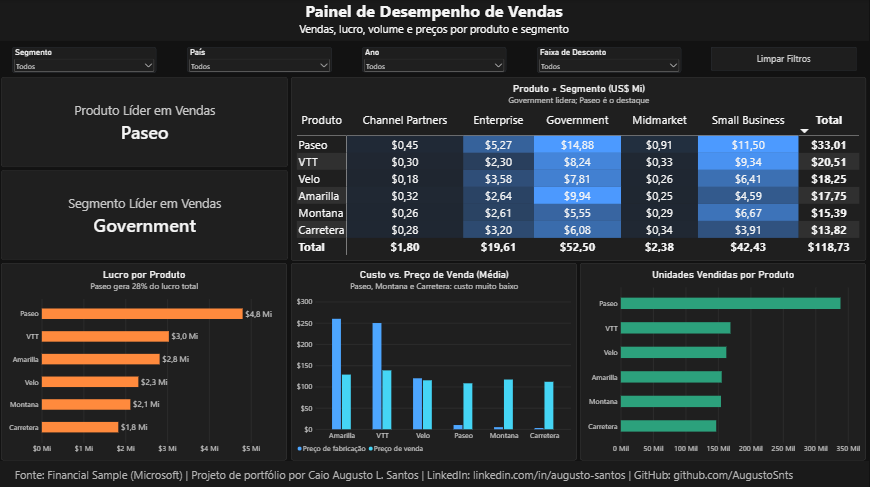

The dashboard page shown, as its layout file describes it:
{"tool":"powerbi","page":{"name":"Análise de Produtos","canvas":[2560,1440],"ordinal":1},"visuals":[{"type":"slicer","fields":{"Values":["Sheet1.Segment"]},"box":[40,140,424,76],"z":0},{"type":"slicer","fields":{"Values":["Sheet1.Country"]},"box":[554,140,426,74],"z":1000},{"type":"slicer","fields":{"Values":["Sheet1.Discount Band"]},"box":[1584,140,424,76],"z":2000},{"type":"slicer","fields":{"Values":["Calendario.Ano"]},"box":[1070,140,424,74],"z":3000},{"type":"actionButton","box":[2096,140,428,70],"z":4000},{"type":"textbox","box":[3.3,1356.7,2556.7,80],"z":5000},{"type":"textbox","box":[3.3,0,2556.7,123.3],"z":6000},{"type":"pivotTable","title":"Produto × Segmento (US$ Mi)","fields":{"Columns":["Sheet1.Segment"],"Rows":["Sheet1.Product"],"Values":["Sheet1.Vendas Mi"]},"box":[860,230,1690,540],"z":7000},{"type":"clusteredColumnChart","title":"Custo vs. Preço de Venda (Média)","fields":{"Category":["Sheet1.Product"],"Y":["Avg(Sheet1.Manufacturing Price)","Avg(Sheet1.Sale Price)"]},"box":[860,776.7,840,580],"z":8000},{"type":"clusteredBarChart","title":"Lucro por Produto","fields":{"Category":["Sheet1.Product"],"Y":["Sheet1.Total Lucro"]},"box":[10,776.7,840,580],"z":9000},{"type":"clusteredBarChart","title":"Unidades Vendidas por Produto","fields":{"Category":["Sheet1.Product"],"Y":["Sheet1.Total Unidades"]},"box":[1710,776,840,580],"z":10000},{"type":"cardVisual","fields":{"Data":["Sheet1.Produto Lider"]},"box":[10,230,843,265],"z":11000},{"type":"cardVisual","fields":{"Data":["Sheet1.Segmento Lider"]},"box":[10,503.3,843,265],"z":12000}]}

Visuals, with their boxes in screenshot pixels (x1, y1, x2, y2), scaled from the page's 2560x1440 canvas onto the 870x487 screenshot:
slicer - Sheet1.Segment: Rect(14, 47, 158, 73)
slicer - Sheet1.Country: Rect(188, 47, 333, 72)
slicer - Sheet1.Discount Band: Rect(538, 47, 682, 73)
slicer - Calendario.Ano: Rect(364, 47, 508, 72)
actionButton: Rect(712, 47, 858, 71)
textbox: Rect(1, 459, 869, 486)
textbox: Rect(1, 0, 869, 42)
"Produto × Segmento (US$ Mi)" pivotTable: Rect(292, 78, 867, 260)
"Custo vs. Preço de Venda (Média)" clusteredColumnChart: Rect(292, 263, 578, 459)
"Lucro por Produto" clusteredBarChart: Rect(3, 263, 289, 459)
"Unidades Vendidas por Produto" clusteredBarChart: Rect(581, 262, 867, 459)
cardVisual - Sheet1.Produto Lider: Rect(3, 78, 290, 167)
cardVisual - Sheet1.Segmento Lider: Rect(3, 170, 290, 260)
